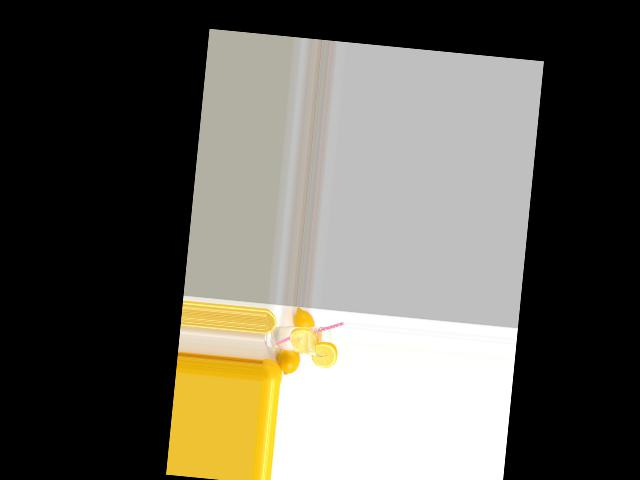lemon: (290, 308, 316, 334)
